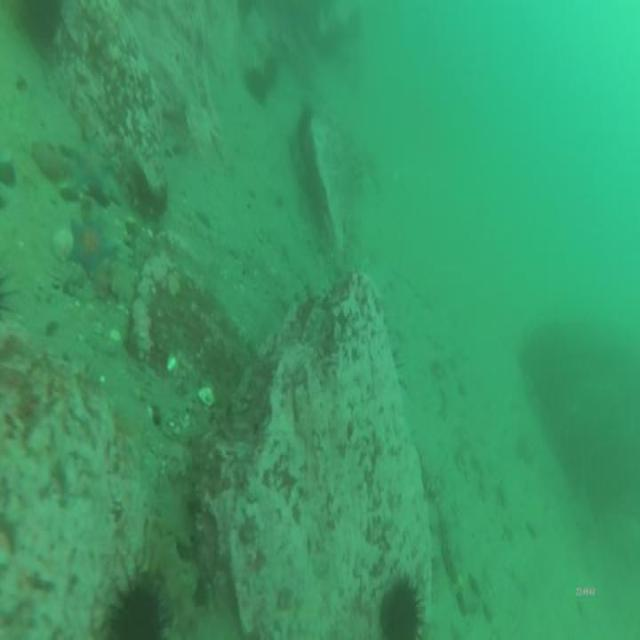echinus: (102, 559, 180, 640), (377, 569, 427, 640), (22, 0, 67, 57), (241, 59, 268, 108), (260, 49, 281, 93), (235, 0, 254, 24)
starfish: (65, 204, 122, 286)
